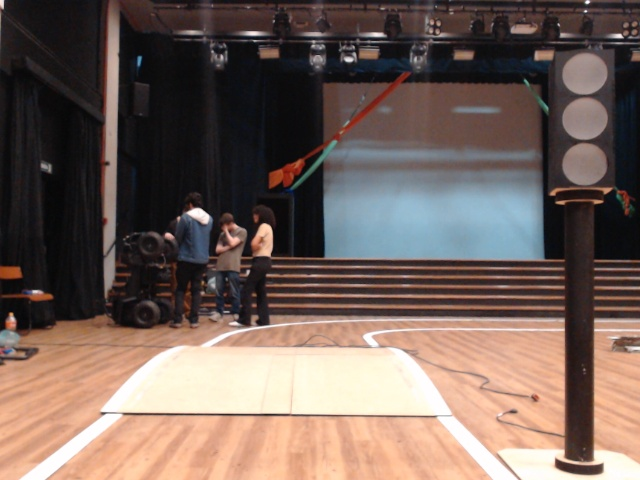SEMAFORO: (532, 37, 631, 212)
